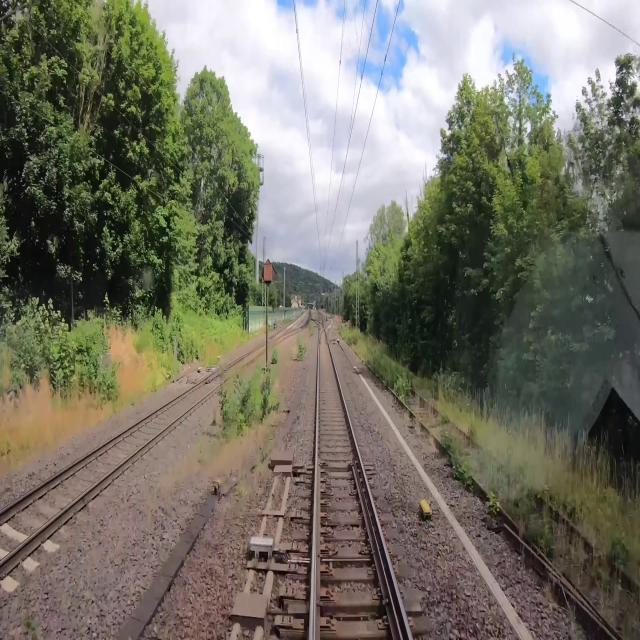Plant: (338, 327, 639, 639), (218, 358, 286, 443), (296, 340, 307, 363), (271, 347, 278, 364)
